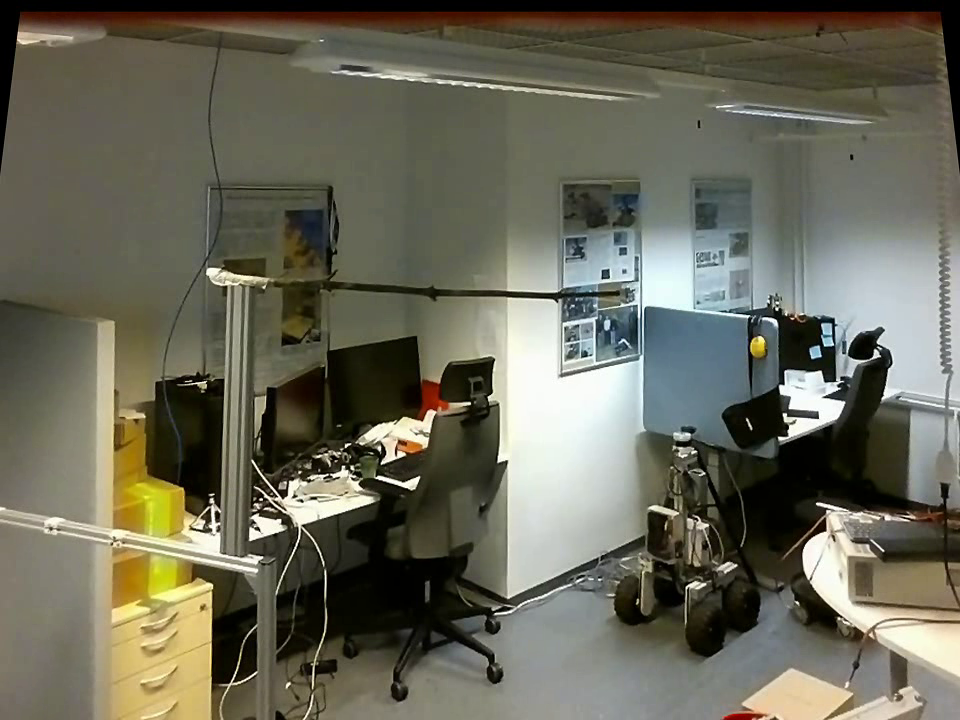aluminum_frame: (1, 504, 258, 577), (214, 286, 257, 556), (252, 547, 281, 719)
branch: (277, 263, 602, 307)
